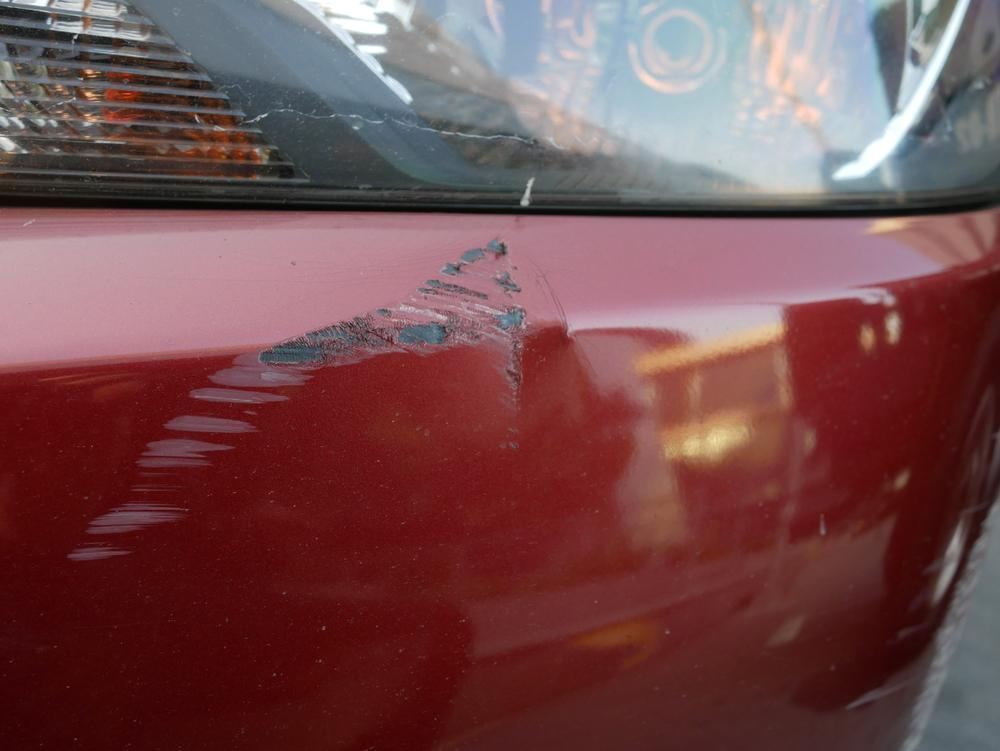scratch: (61, 226, 530, 578)
